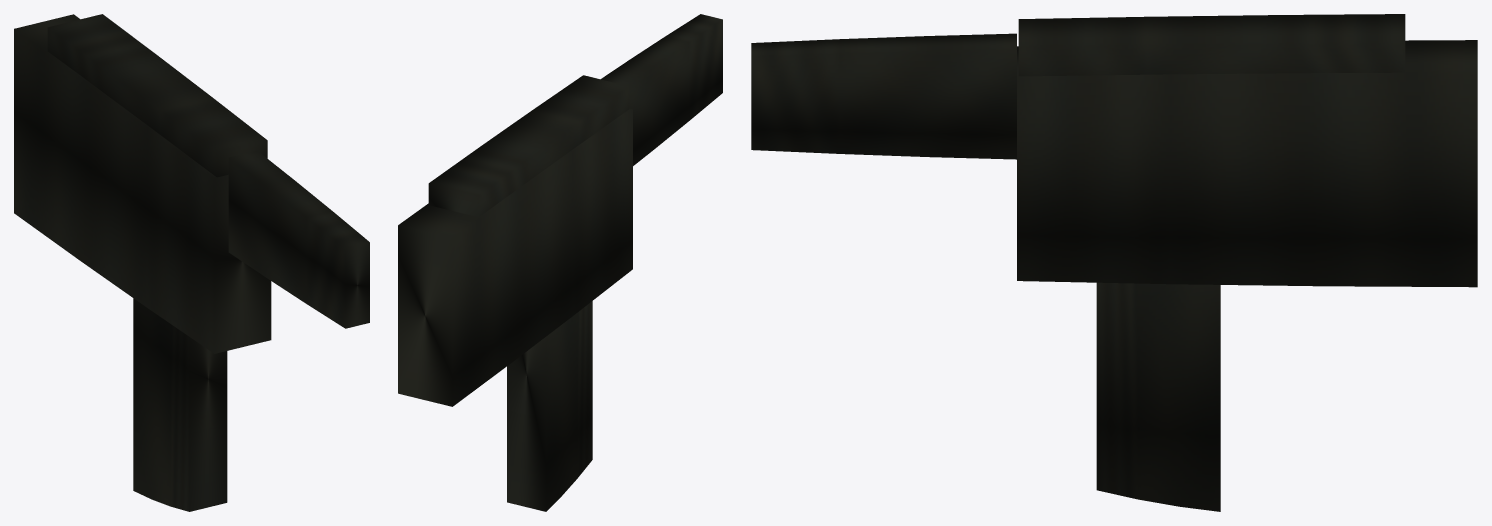
Rendered from wpn_uzi_pro.glb.
The picture shows the model from 3 angles, left to right: view 1: azimuth 30°, elevation 25°; view 2: azimuth 150°, elevation 25°; view 3: azimuth 270°, elevation 25°; orthographic projection. The views are drawn at different scales.
Parts seen in each view (by area): view 1: SubMesh_0_Receiver, SubMesh_2_Magazine, SubMesh_3_BarrelSight, SubMesh_1_Action; view 2: SubMesh_0_Receiver, SubMesh_2_Magazine, SubMesh_1_Action, SubMesh_3_BarrelSight; view 3: SubMesh_0_Receiver, SubMesh_3_BarrelSight, SubMesh_2_Magazine, SubMesh_1_Action.
Part boxes in pixels (x1,y1,x2,y2): SubMesh_0_Receiver: (14, 14, 271, 353); SubMesh_2_Magazine: (133, 298, 227, 511); SubMesh_3_BarrelSight: (228, 150, 369, 328); SubMesh_1_Action: (47, 14, 267, 177); SubMesh_0_Receiver: (398, 108, 632, 406); SubMesh_2_Magazine: (507, 301, 592, 511); SubMesh_1_Action: (428, 75, 629, 217); SubMesh_3_BarrelSight: (601, 14, 722, 165); SubMesh_0_Receiver: (1017, 40, 1477, 287); SubMesh_3_BarrelSight: (751, 33, 1016, 159); SubMesh_2_Magazine: (1096, 282, 1220, 511); SubMesh_1_Action: (1018, 14, 1405, 76).
Bounding box in the file's own units: 0.045 × 0.2931 × 0.41.
1 material, 1 textured.
